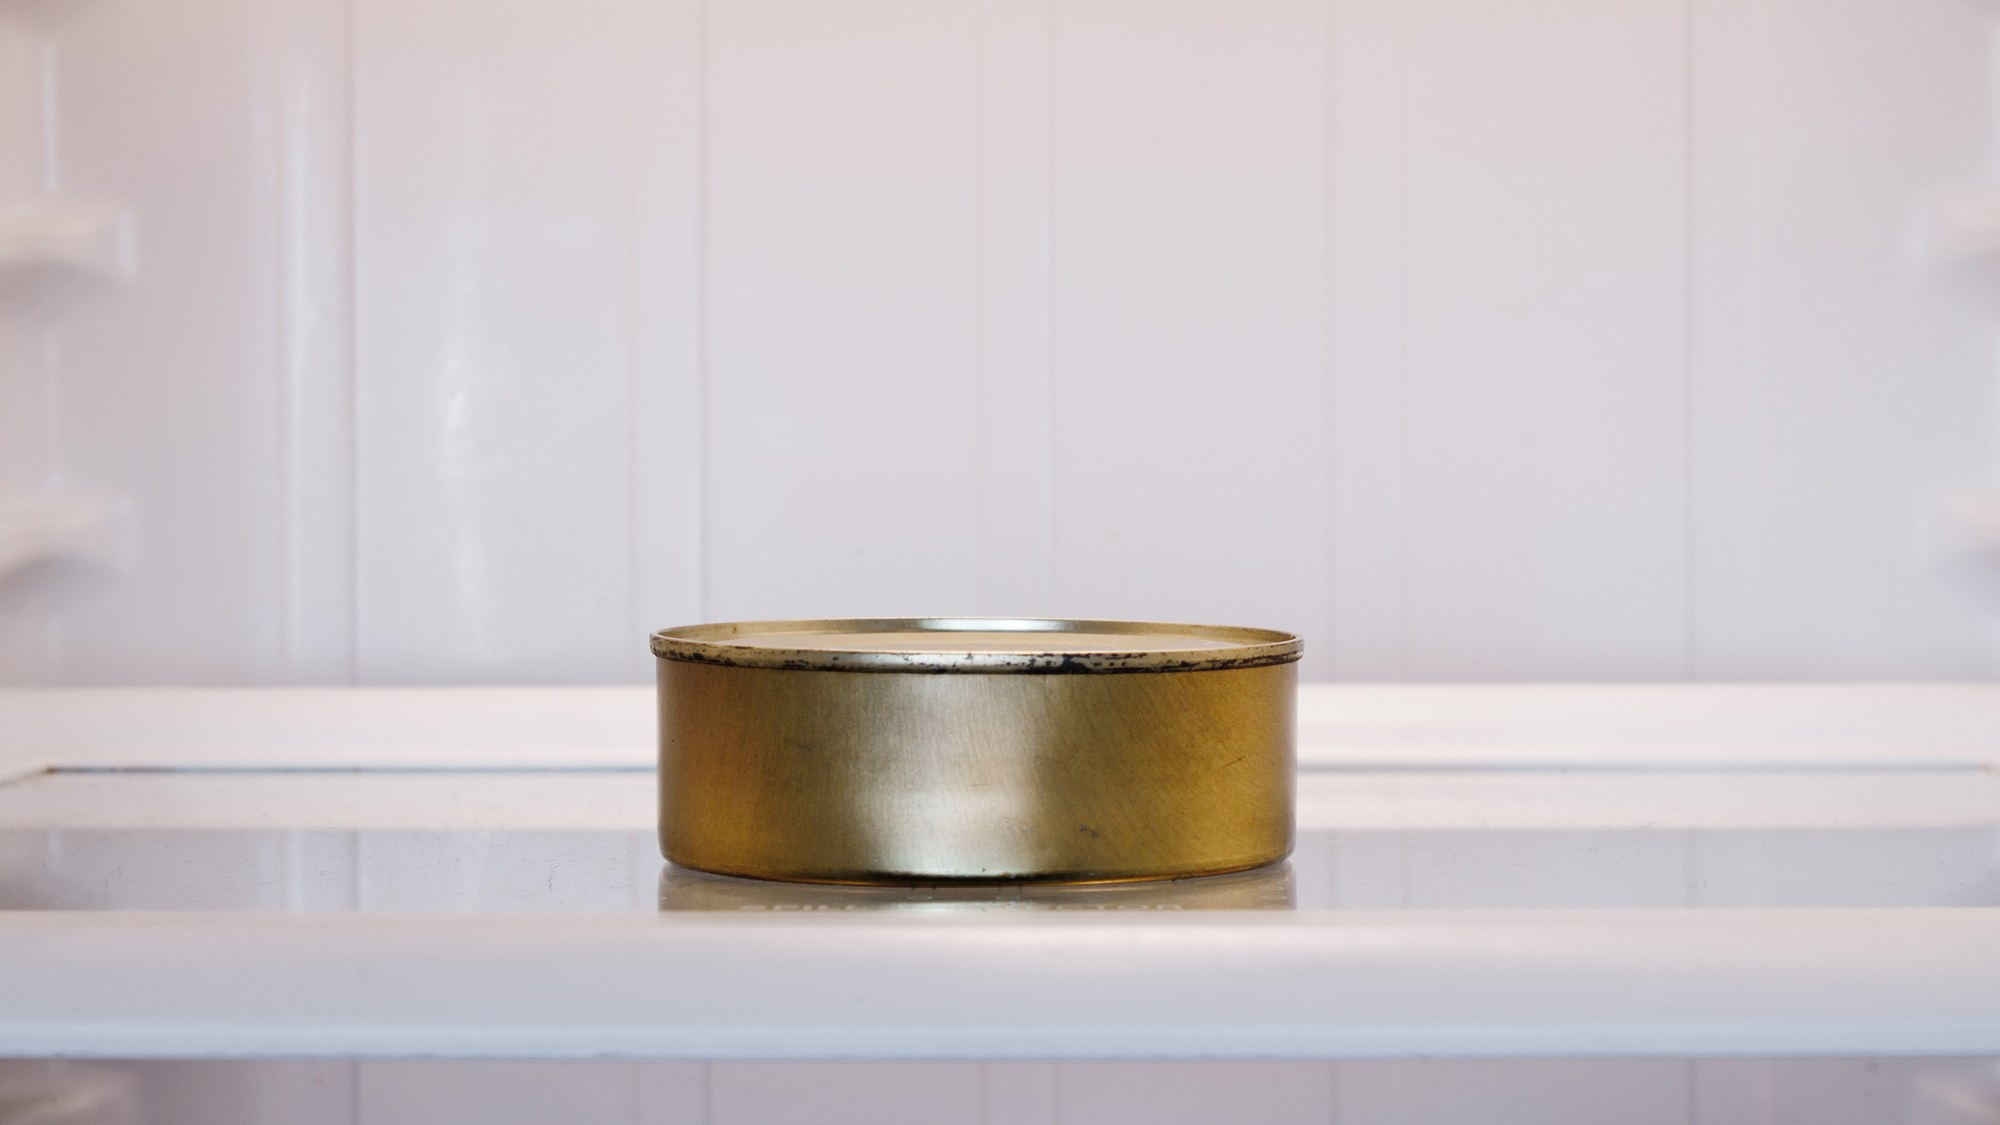metal: (651, 613, 1309, 897)
